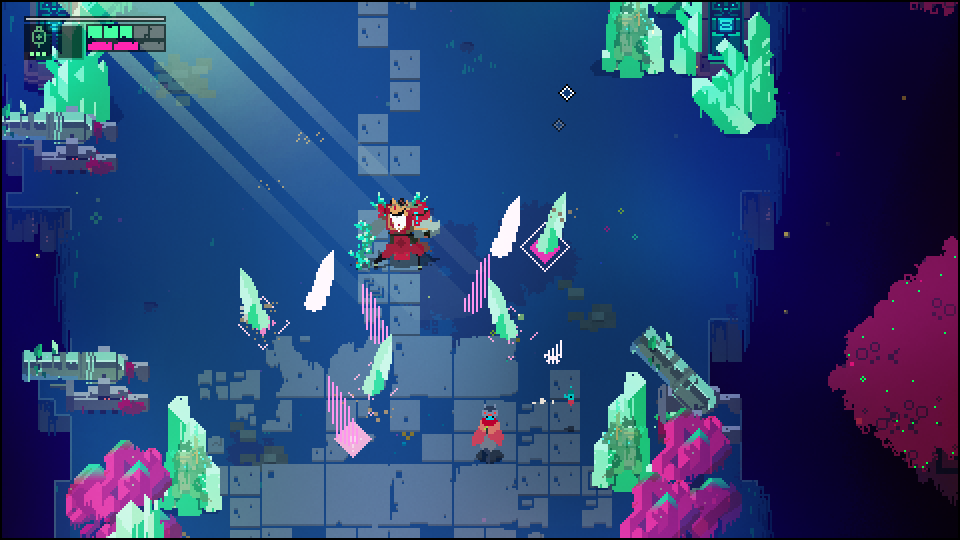hanged_crys: (324, 374, 361, 452), (299, 244, 338, 316), (235, 267, 272, 334), (359, 331, 396, 394), (537, 189, 570, 258), (490, 190, 521, 261), (486, 279, 518, 342)
hanged_man: (353, 192, 441, 273)
